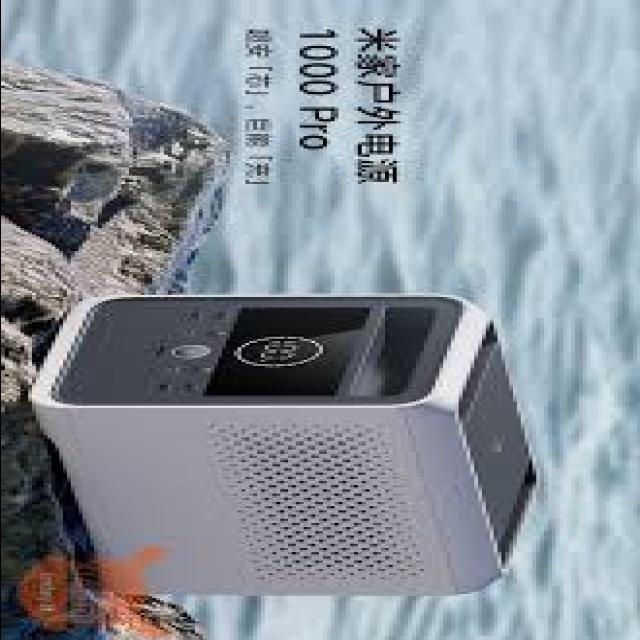portable-charger: (28, 292, 540, 598)
